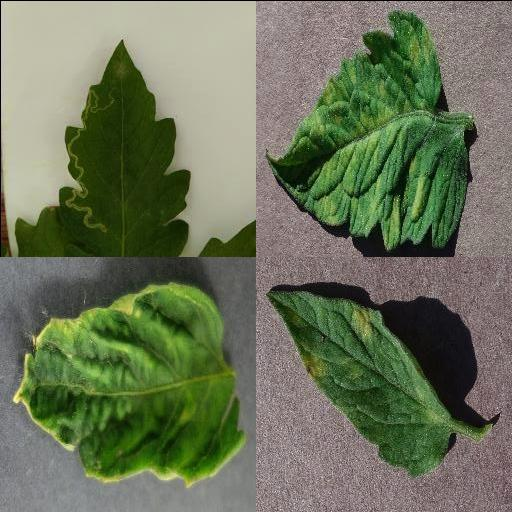Leaf Miner: (59, 37, 191, 256)
Leaf Mold: (264, 9, 470, 251), (266, 288, 454, 475)
Yellow Leaf Curl Virus: (12, 279, 246, 485)
